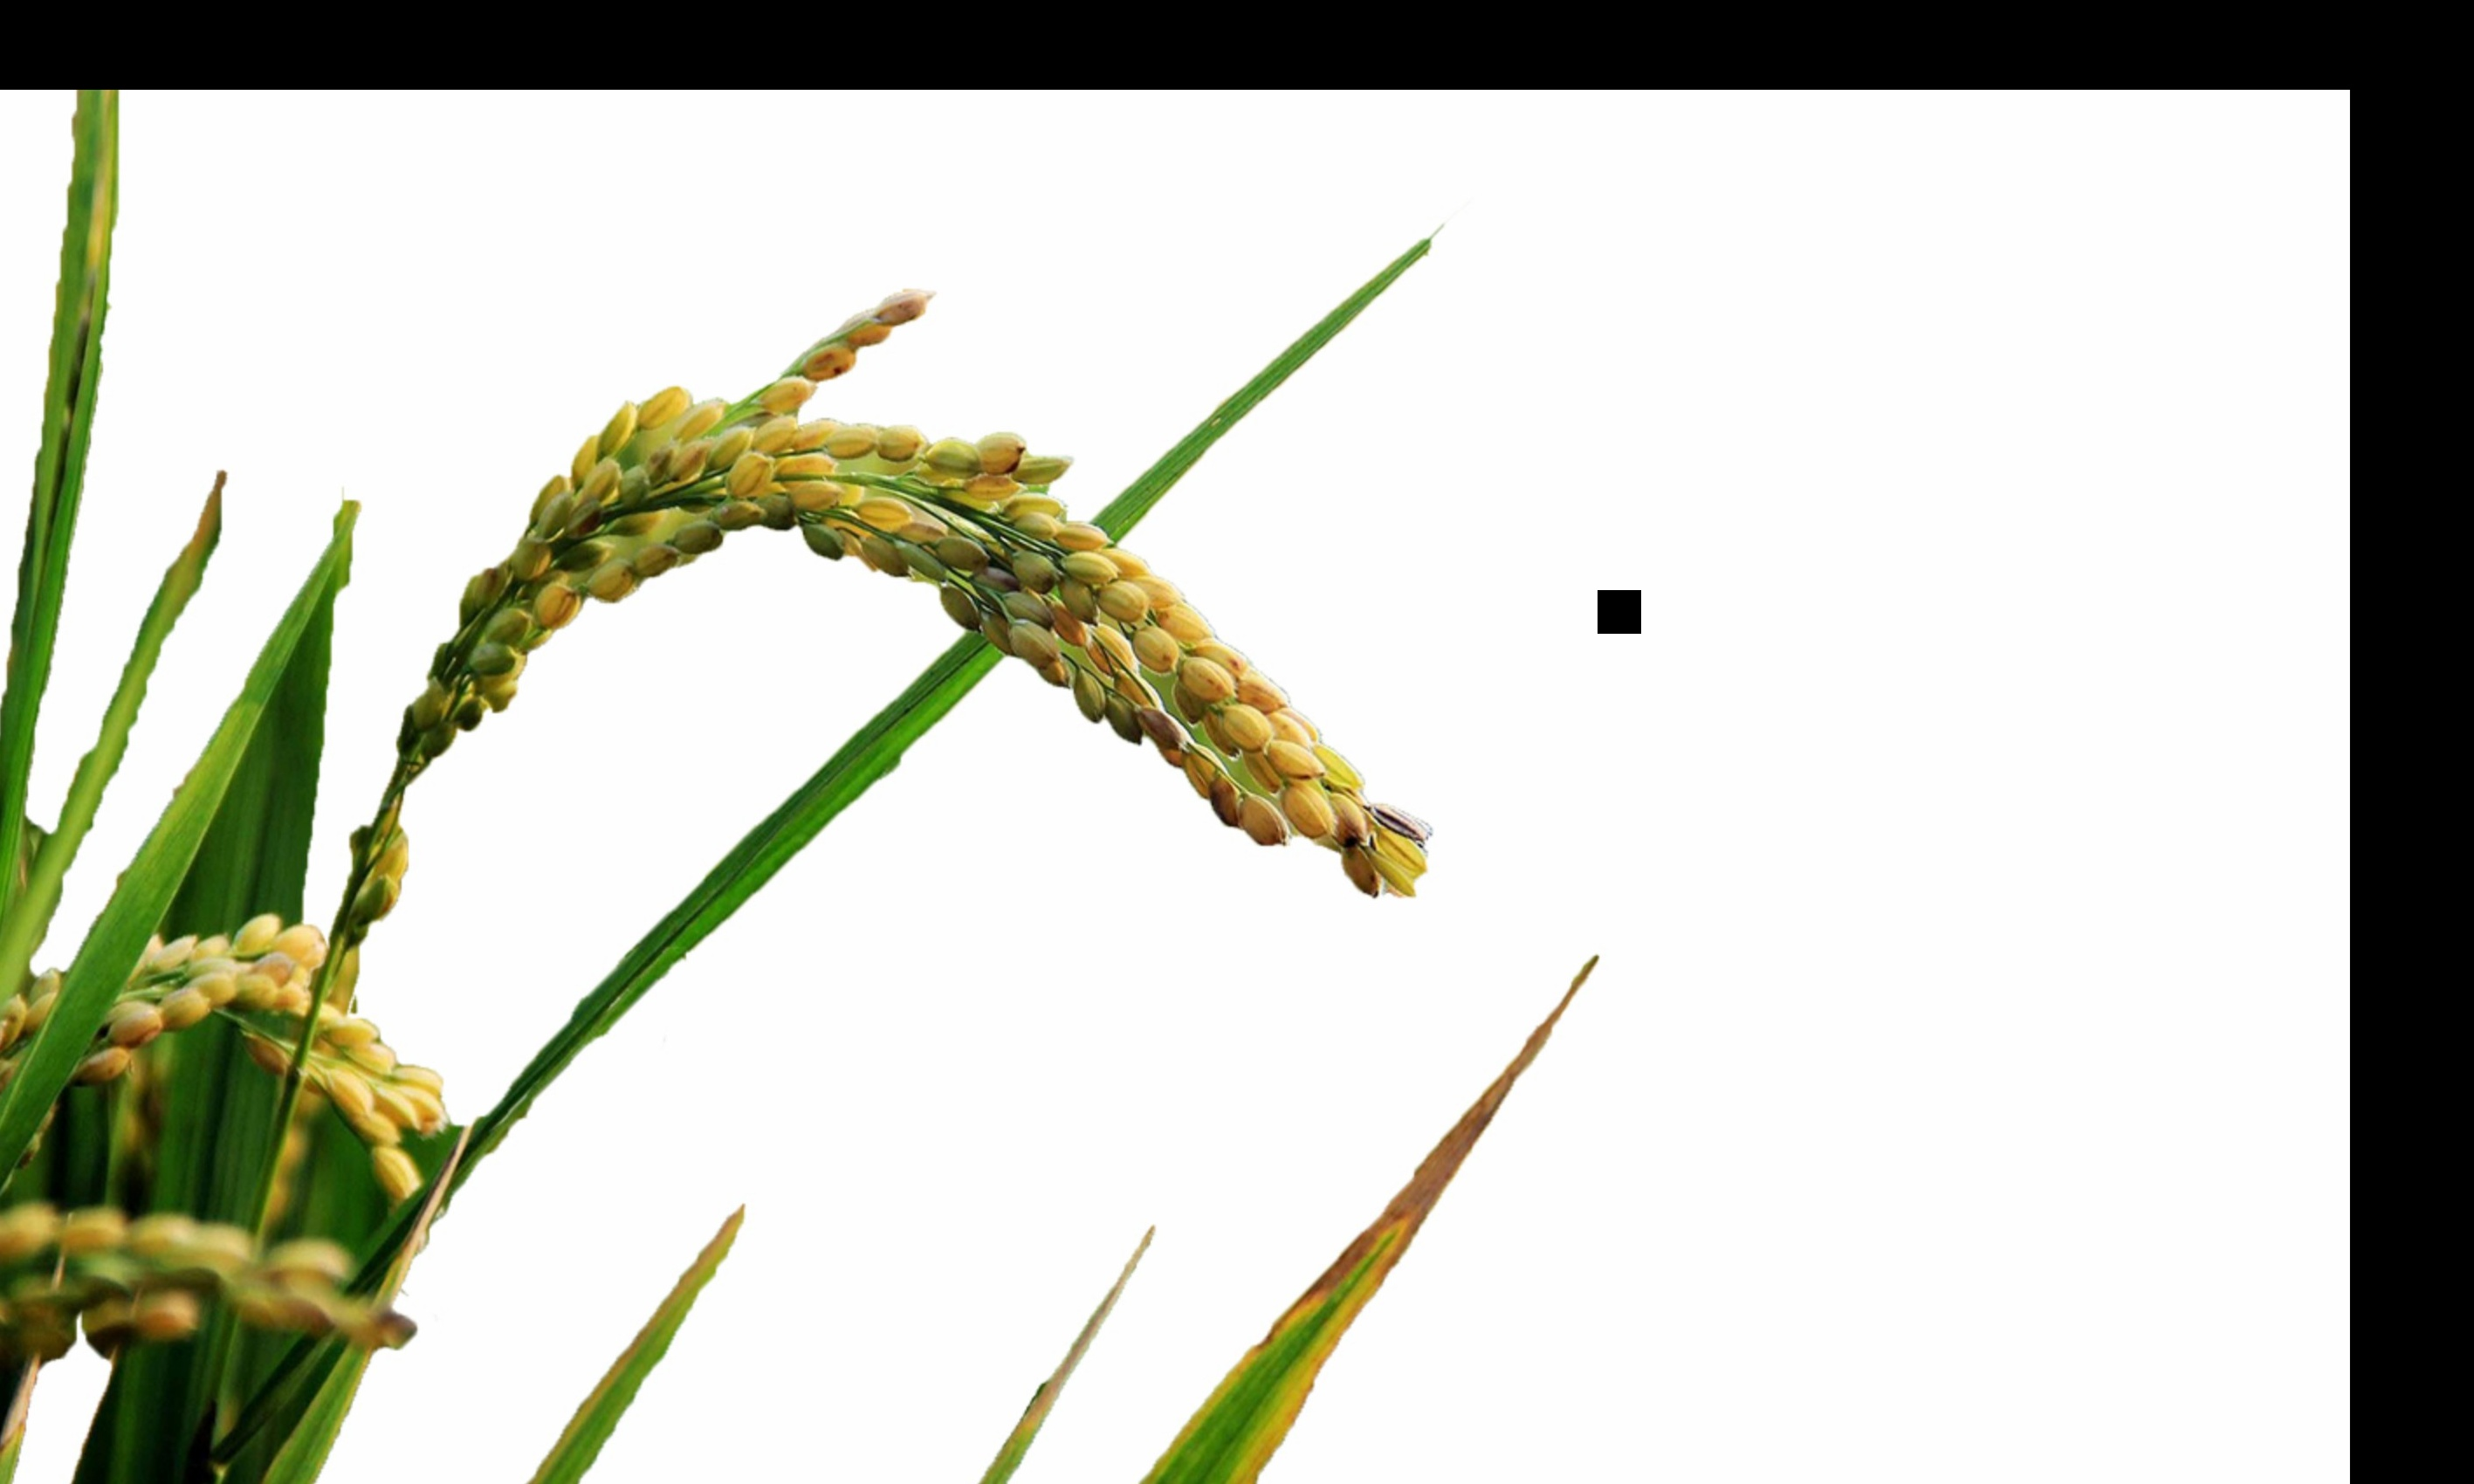rice: (314, 247, 1455, 995)
